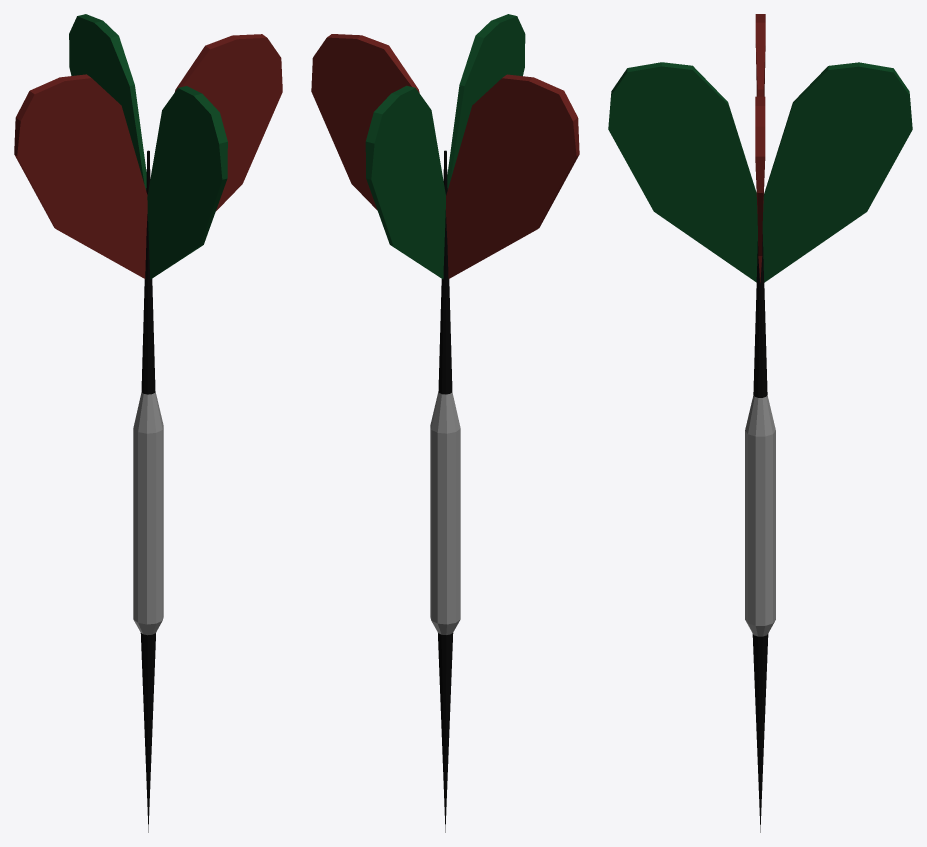
The model's file is flechette.fbx.
The picture shows the model from 3 angles, left to right: view 1: azimuth 30°, elevation 25°; view 2: azimuth 150°, elevation 25°; view 3: azimuth 270°, elevation 25°; orthographic projection.
Visible parts, largest first — view 1: Flechette; view 2: Flechette; view 3: Flechette.
Boxes of the visible parts, box(x1,y1,x2,y2) form: Flechette: box(14, 14, 282, 832); Flechette: box(311, 14, 579, 832); Flechette: box(608, 14, 912, 832).
Bounding box in the file's own units: 378 × 1054 × 378.
